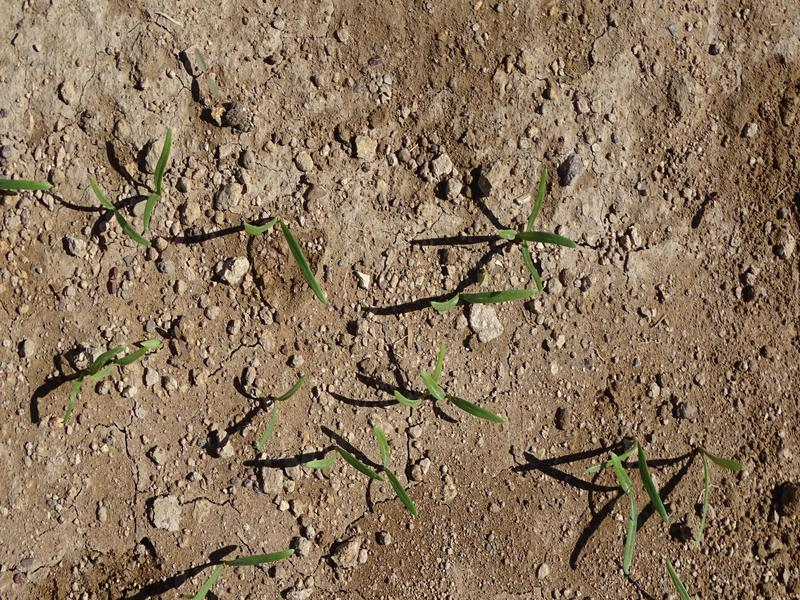Espinaca: (587, 435, 674, 572), (386, 339, 508, 427), (308, 425, 423, 518), (235, 205, 335, 309), (492, 168, 576, 283), (63, 338, 169, 417), (686, 438, 747, 547), (79, 178, 150, 254), (195, 546, 306, 594), (426, 285, 537, 321), (140, 127, 174, 234)
